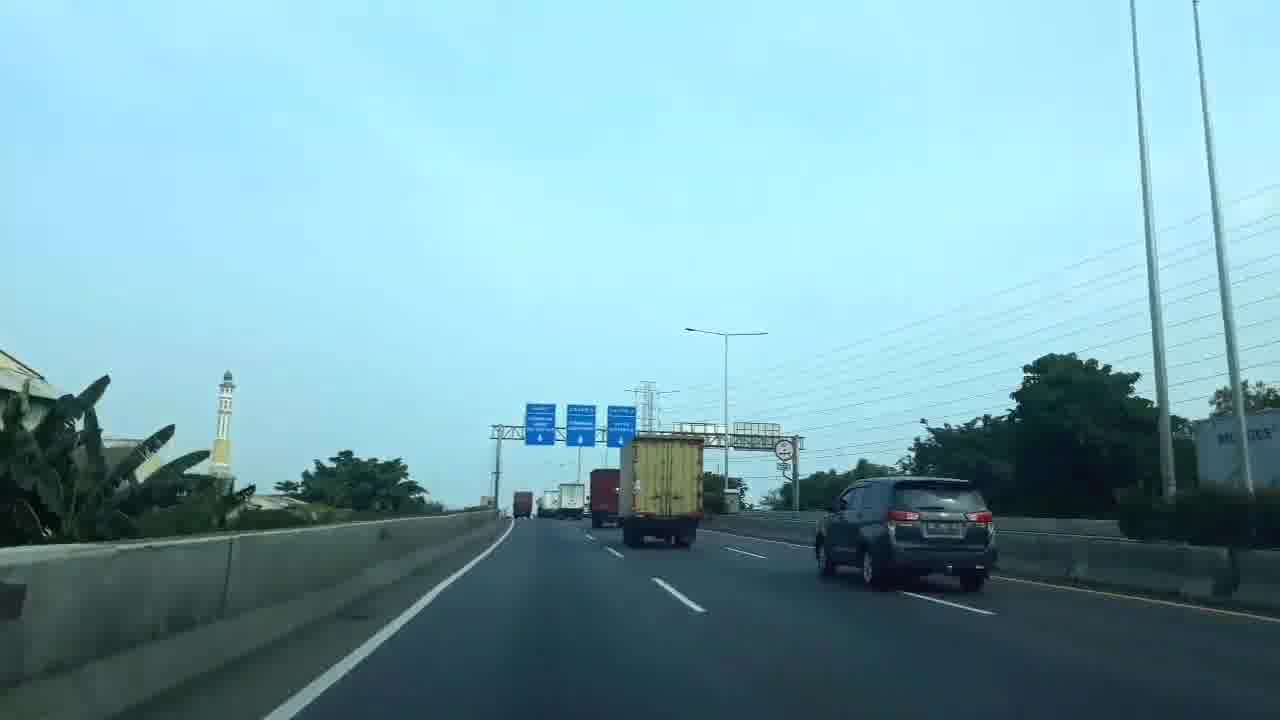plate_positive: (927, 522, 960, 535)
